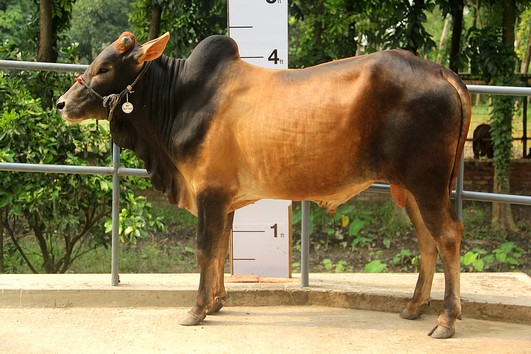cow: (49, 26, 472, 343)
